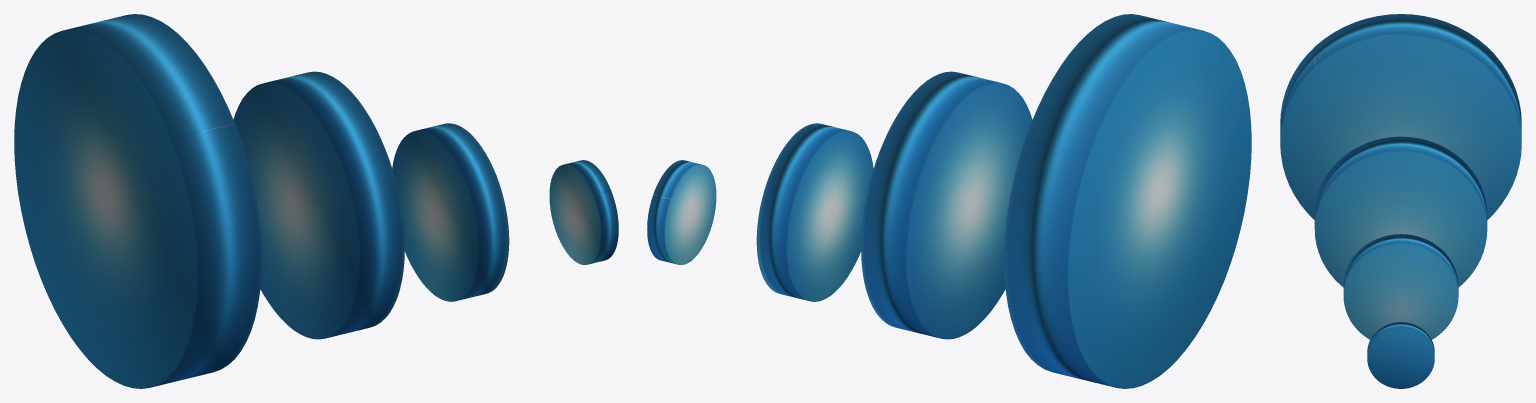
Rendered from BackgroundCircles.glb.
3 views of the same model, side by side, from view 1: azimuth 30°, elevation 25°; view 2: azimuth 150°, elevation 25°; view 3: azimuth 270°, elevation 25° (orthographic). The views are drawn at different scales.
Visible parts, largest first — view 1: Cylinder; view 2: Cylinder; view 3: Cylinder.
Boxes of the visible parts, left/top/right/bottom form: Cylinder: left=14, top=14, right=618, bottom=388; Cylinder: left=647, top=14, right=1251, bottom=388; Cylinder: left=1280, top=14, right=1521, bottom=388.
Bounding box in the file's own units: 10.91 × 7.14 × 7.14.
1 material, 1 textured.
